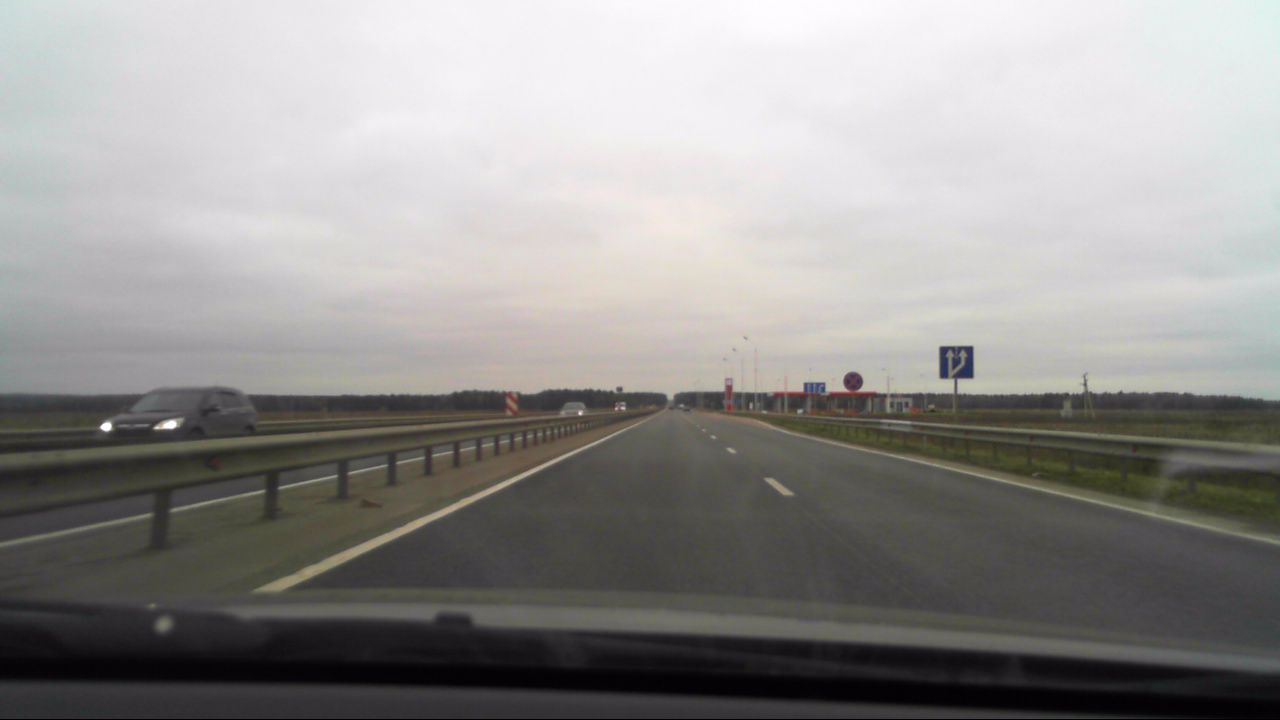No Parking: (843, 371, 864, 392)
